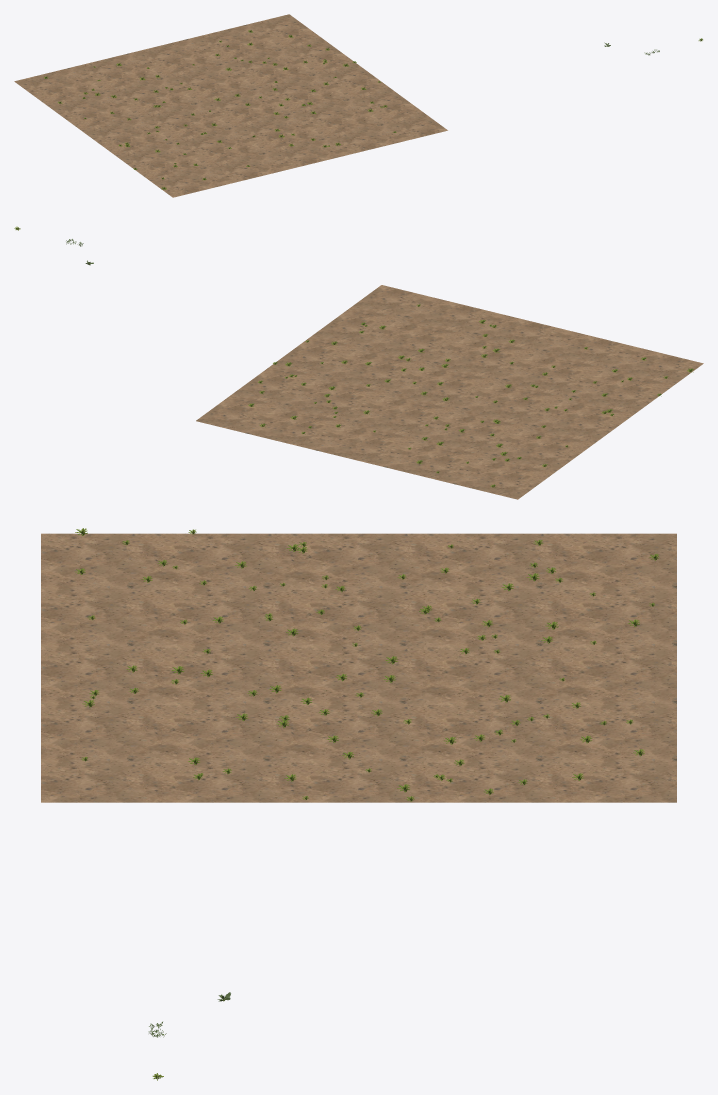
Rendered from runtime-morning-glory.glb.
3 views of the same model, one above another, from view 1: azimuth 30°, elevation 25°; view 2: azimuth 150°, elevation 25°; view 3: azimuth 270°, elevation 25° (orthographic). The views are drawn at different scales.
Visible parts, largest first — view 1: Ground; view 2: Ground; view 3: Ground.
Boxes of the visible parts, <box> form: Ground: <box>14,14,447,197</box>; Ground: <box>196,285,703,499</box>; Ground: <box>41,533,676,802</box>.
Size of the model in its own units: 24.54 by 0.2504 by 12.03.
Materials: 5 (5 with a texture image).
